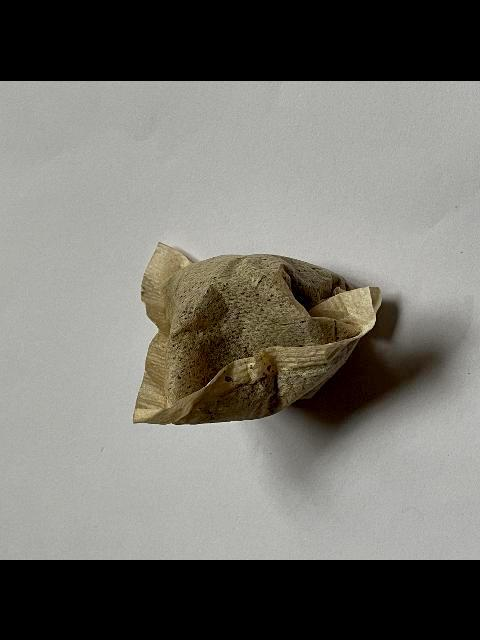teabag: (132, 239, 384, 426)
